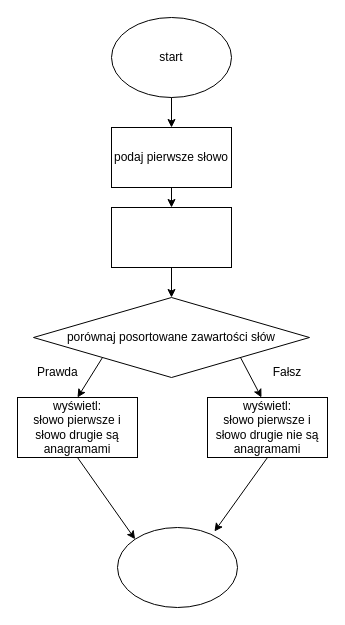
This 345x625 diagram has some shape labels left out. Each missing label, with the centre of its shape:
koniec: (177,567)
podaj drugie słowo: (171,237)
